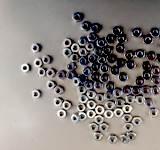nut: (143, 35, 154, 45), (132, 28, 143, 38), (149, 108, 160, 118), (122, 114, 133, 124), (116, 35, 127, 45), (113, 26, 123, 36), (91, 23, 101, 33), (81, 22, 91, 32), (147, 52, 157, 62), (136, 77, 146, 87), (133, 117, 143, 127), (124, 123, 134, 133), (104, 110, 114, 120), (108, 135, 118, 145), (118, 73, 128, 83), (122, 86, 132, 96), (136, 95, 146, 105), (125, 51, 135, 61), (57, 71, 67, 81), (21, 63, 31, 73), (120, 135, 130, 145), (106, 34, 116, 44), (93, 133, 104, 142), (94, 116, 105, 125), (104, 92, 115, 101), (105, 83, 116, 92), (144, 99, 155, 108), (115, 44, 126, 53), (73, 13, 83, 22), (55, 86, 64, 96), (114, 109, 124, 118), (123, 105, 133, 114), (87, 101, 97, 110), (94, 82, 104, 91), (110, 67, 120, 76), (126, 61, 136, 70), (136, 50, 146, 59), (88, 33, 98, 42), (103, 47, 113, 56), (79, 57, 89, 66), (83, 67, 93, 76), (67, 63, 77, 72), (86, 42, 96, 51), (100, 64, 110, 73), (100, 74, 110, 83), (91, 73, 101, 82), (87, 90, 97, 99), (77, 103, 86, 113), (71, 114, 80, 124), (63, 101, 72, 111), (127, 133, 137, 142), (63, 48, 72, 58), (142, 62, 152, 71), (79, 95, 89, 104), (142, 86, 151, 96), (89, 54, 98, 64), (115, 98, 125, 107), (89, 124, 99, 133), (103, 46, 112, 56), (96, 94, 106, 103), (113, 89, 123, 98), (94, 47, 103, 57), (151, 29, 160, 38), (57, 110, 66, 119), (78, 113, 87, 122), (54, 98, 63, 107), (32, 90, 41, 99), (47, 81, 56, 90), (42, 56, 51, 65), (63, 39, 72, 48), (78, 86, 87, 95), (79, 37, 88, 46), (96, 106, 105, 115), (79, 48, 88, 57), (71, 44, 80, 53), (107, 55, 116, 64), (73, 77, 82, 86), (98, 55, 107, 64), (126, 96, 135, 105), (106, 101, 115, 110), (152, 77, 160, 87), (152, 66, 160, 76), (152, 86, 160, 96), (31, 44, 41, 52), (98, 38, 106, 48), (67, 71, 75, 80), (100, 124, 109, 132), (47, 69, 55, 78), (38, 68, 46, 77), (117, 59, 125, 68), (91, 64, 100, 72), (133, 86, 141, 95), (85, 81, 94, 89), (87, 110, 96, 118), (34, 59, 42, 67), (71, 54, 79, 62), (144, 73, 151, 80), (157, 55, 160, 64)
